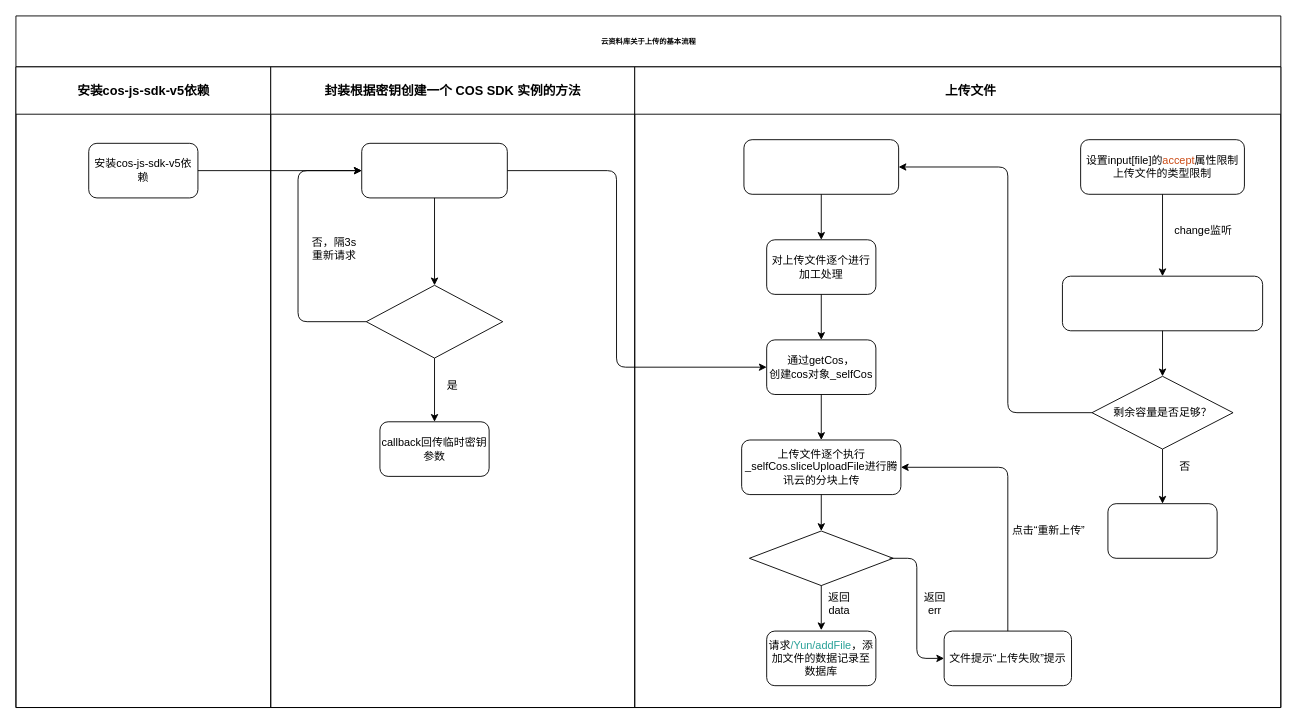
Image size: 1297x723. Some labels were removed from this diagram. Here are the shapes that lost their labels. From the top down, the centre of each, then its label:
the point at 434,170: 封装方法 getCos， 异步请求 /Yun/getTempKey 获取签名
the point at 821,166: 请求 /Yun/getYunSettings 获取水印设置信息
the point at 434,321: 请求获取签名成功？
the point at 1162,303: 计算上传文件总大小， 请求 /Yun/getYunInfo 获取云资料盘的容量信息
the point at 1162,530: 提示“”容量不足“”
the point at 820,558: 腾讯云返回 结果
